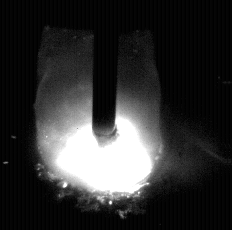arame: (93, 0, 118, 146)
poca: (36, 0, 164, 230)
